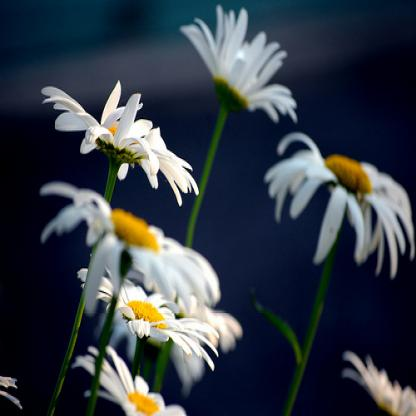ASTER: (15, 12, 403, 401)
